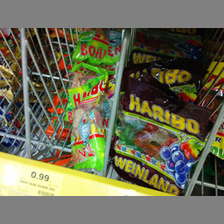candy: (112, 85, 208, 194), (59, 72, 111, 174)
